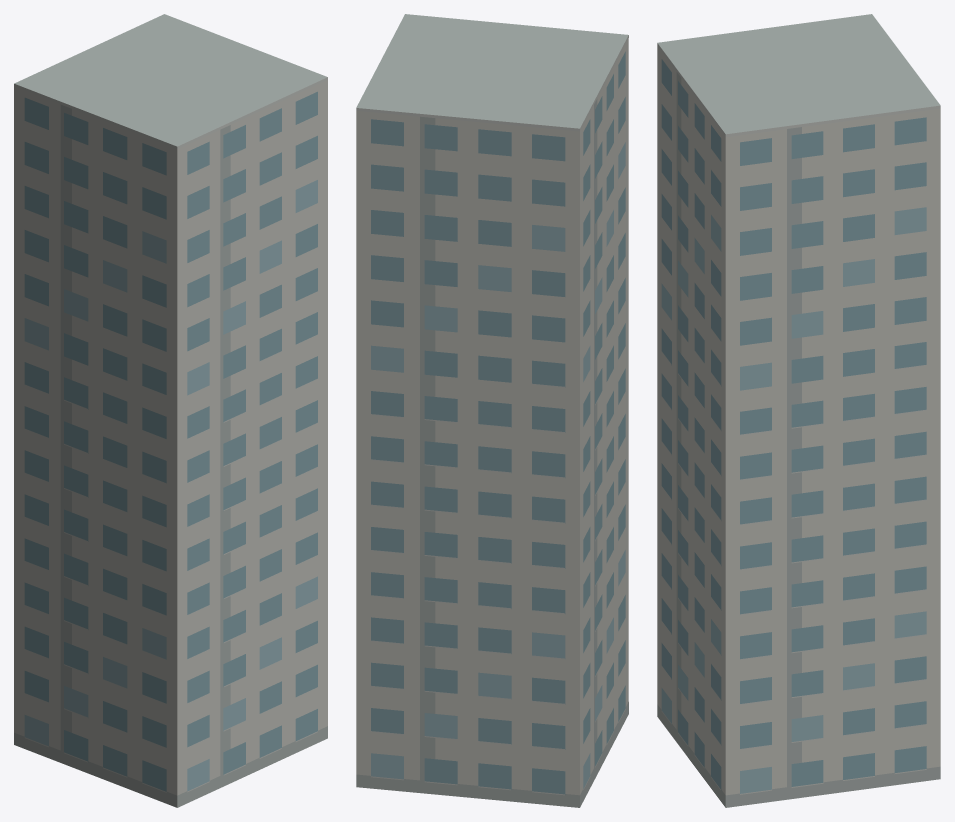
File: residential-ff8f95ea-dc03-4397-8b30-5c6f95a1c605.glb
3 views of the same model, side by side, from view 1: azimuth 30°, elevation 25°; view 2: azimuth 150°, elevation 25°; view 3: azimuth 270°, elevation 25° (orthographic). The views are drawn at different scales.
Parts seen in each view (by area): view 1: residential-ff8f95ea-dc03-4397-8b30-5c6f95a1c605.tmp; view 2: residential-ff8f95ea-dc03-4397-8b30-5c6f95a1c605.tmp; view 3: residential-ff8f95ea-dc03-4397-8b30-5c6f95a1c605.tmp.
Part boxes in pixels (left/top/right/bottom): residential-ff8f95ea-dc03-4397-8b30-5c6f95a1c605.tmp: left=14, top=14, right=327, bottom=807; residential-ff8f95ea-dc03-4397-8b30-5c6f95a1c605.tmp: left=356, top=14, right=628, bottom=807; residential-ff8f95ea-dc03-4397-8b30-5c6f95a1c605.tmp: left=657, top=14, right=940, bottom=807.
Bounding box in the file's own units: 21.84 × 57 × 21.75.
